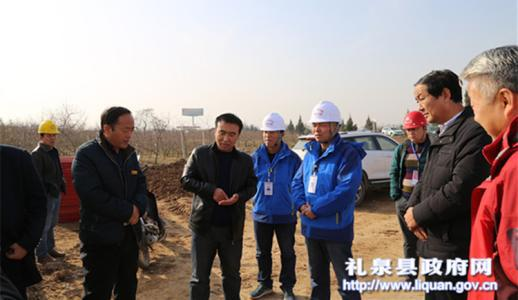head: (461, 48, 514, 133), (411, 67, 462, 123), (97, 103, 138, 151), (210, 111, 246, 153)
helmet: (305, 97, 346, 143), (259, 109, 289, 150), (401, 107, 430, 145), (35, 120, 60, 149)
